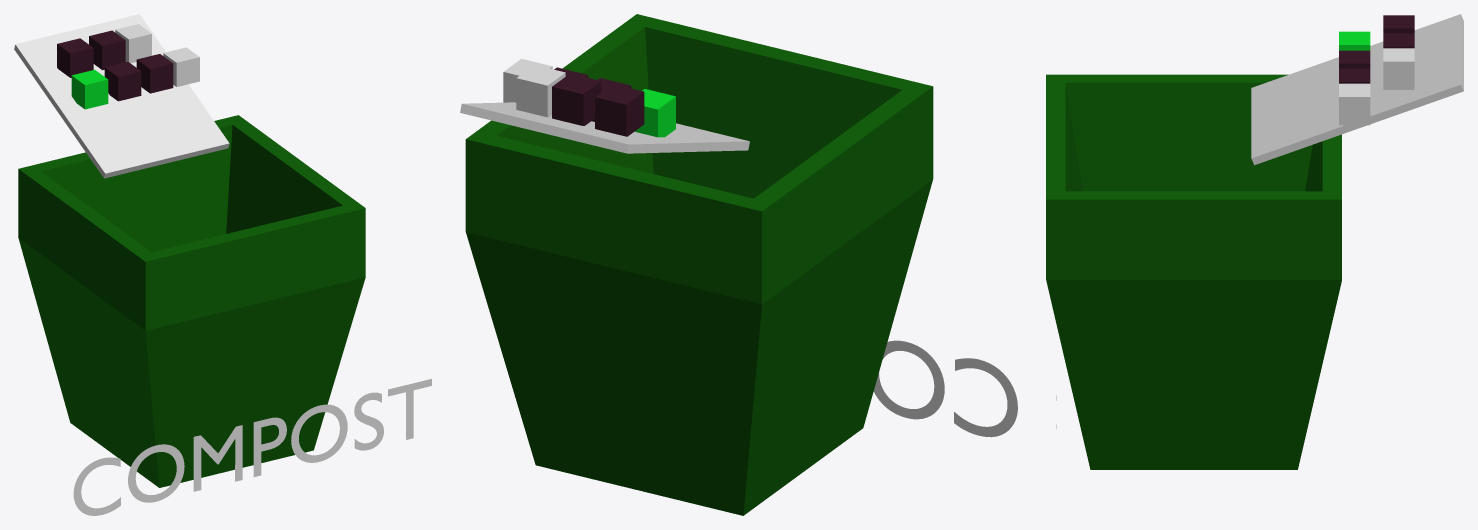
The model's file is compost.fbx.
The picture shows the model from 3 angles, left to right: view 1: azimuth 30°, elevation 25°; view 2: azimuth 150°, elevation 25°; view 3: azimuth 270°, elevation 25°; orthographic projection. The views are drawn at different scales.
Parts seen in each view (by area): view 1: Cube, Cube.007, Text, Cube.008, Cube.001, Cube.004, Cube.002, Cube.005, Cube.003, Cube.006; view 2: Cube, Cube.007, Text, Cube.004, Cube.005, Cube.006, Cube.008, Cube.003; view 3: Cube, Cube.007, Cube.003, Cube.006, Cube.008, Cube.004, Cube.001, Cube.005, Cube.002.
Boxes of the visible parts, left/top/right/bottom form: Cube: left=18, top=115, right=365, bottom=487; Cube.007: left=14, top=14, right=229, bottom=178; Text: left=73, top=379, right=431, bottom=515; Cube.008: left=71, top=69, right=108, bottom=109; Cube.001: left=104, top=61, right=141, bottom=101; Cube.004: left=57, top=38, right=93, bottom=77; Cube.002: left=136, top=54, right=173, bottom=93; Cube.005: left=89, top=30, right=125, bottom=70; Cube.003: left=163, top=47, right=199, bottom=86; Cube.006: left=115, top=24, right=151, bottom=63; Cube: left=465, top=14, right=933, bottom=515; Cube.007: left=460, top=102, right=749, bottom=153; Text: left=873, top=340, right=1017, bottom=437; Cube.004: left=595, top=84, right=644, bottom=136; Cube.005: left=552, top=73, right=601, bottom=125; Cube.006: left=516, top=65, right=565, bottom=117; Cube.008: left=635, top=89, right=675, bottom=137; Cube.003: left=503, top=58, right=552, bottom=102; Cube: left=1046, top=74, right=1341, bottom=469; Cube.007: left=1251, top=14, right=1463, bottom=165; Cube.003: left=1339, top=83, right=1370, bottom=125; Cube.006: left=1383, top=48, right=1414, bottom=89; Cube.008: left=1339, top=31, right=1370, bottom=50; Cube.004: left=1383, top=15, right=1414, bottom=33; Cube.001: left=1339, top=50, right=1370, bottom=68; Cube.005: left=1383, top=33, right=1414, bottom=48; Cube.002: left=1339, top=68, right=1370, bottom=83.
Size of the model in its own units: 464 by 413 by 403.
